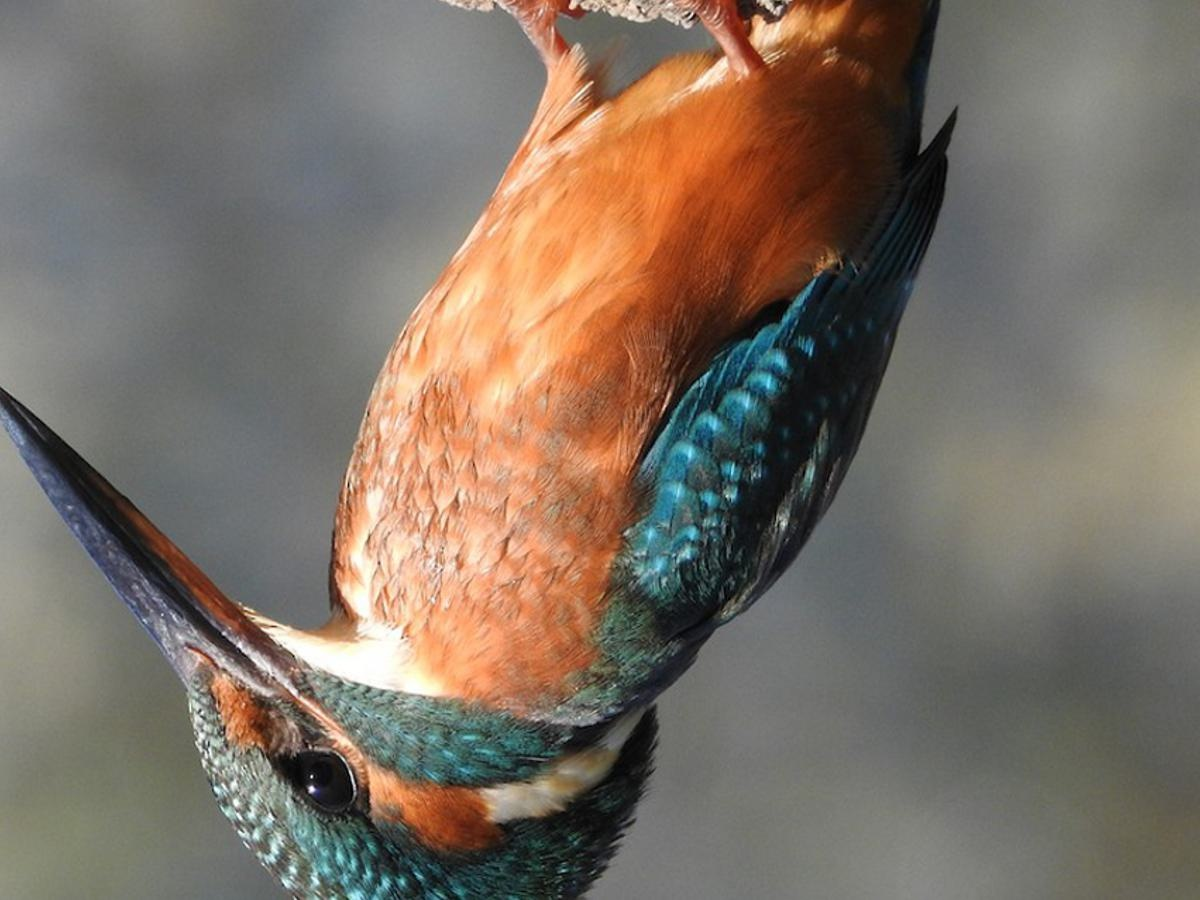kingfisher: (1, 13, 997, 900)
